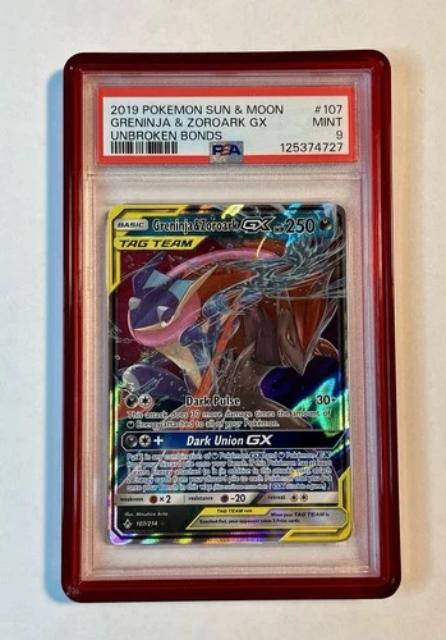Card: (103, 197, 359, 550)
Name: (150, 212, 285, 237)
